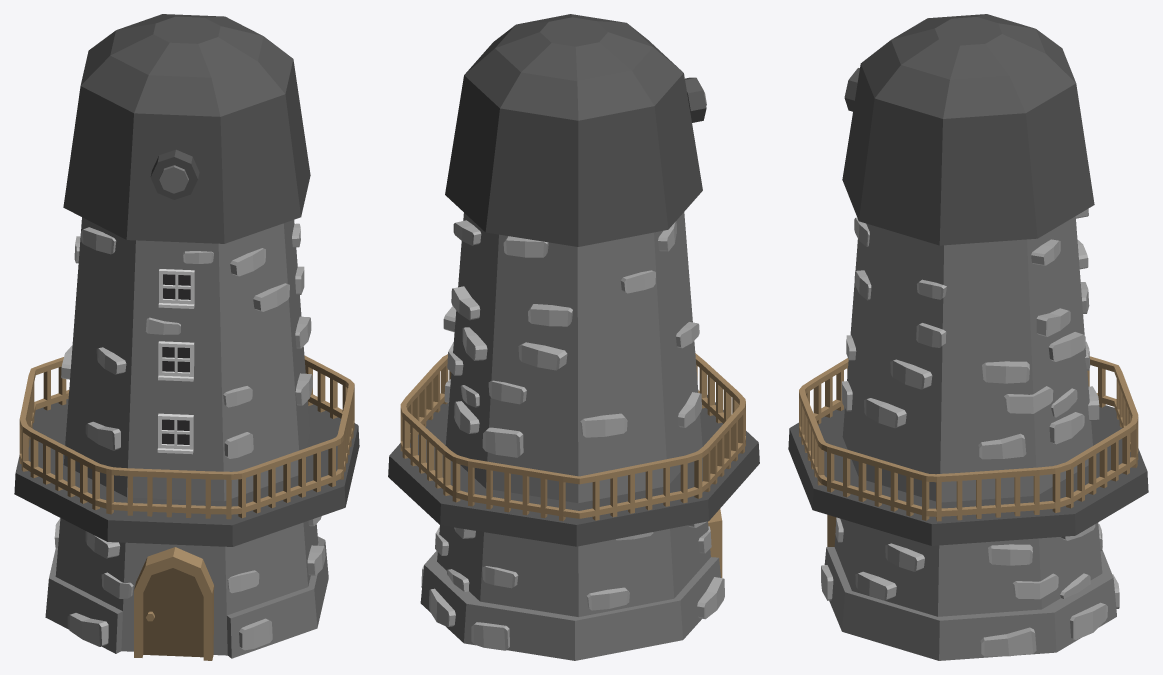
File: towerwindmill.glb
3 renders of one model, left to right at view 1: azimuth 30°, elevation 25°; view 2: azimuth 150°, elevation 25°; view 3: azimuth 270°, elevation 25°, orthographic.
Parts seen in each view (by area): view 1: TowerWindmill; view 2: TowerWindmill; view 3: TowerWindmill.
Boxes of the visible parts, x1,y1,x2,y2 form: TowerWindmill: (14,14,359,660); TowerWindmill: (388,14,759,660); TowerWindmill: (788,14,1148,660).
Size of the model in its own units: 5.03 by 8.87 by 5.1.
